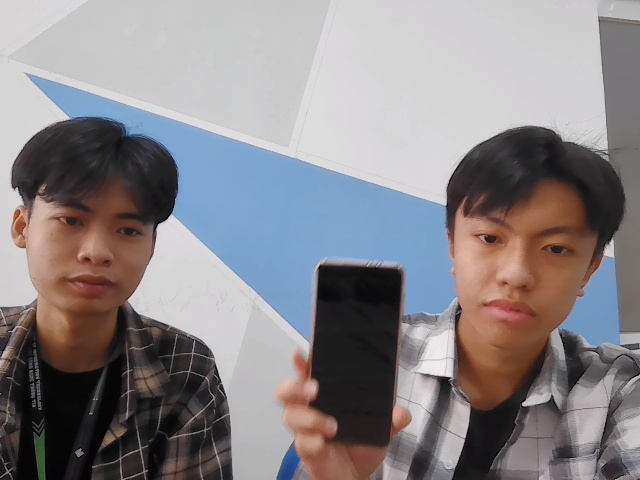human: (444, 124, 622, 351), (10, 127, 180, 313)
phone: (308, 254, 404, 452)
